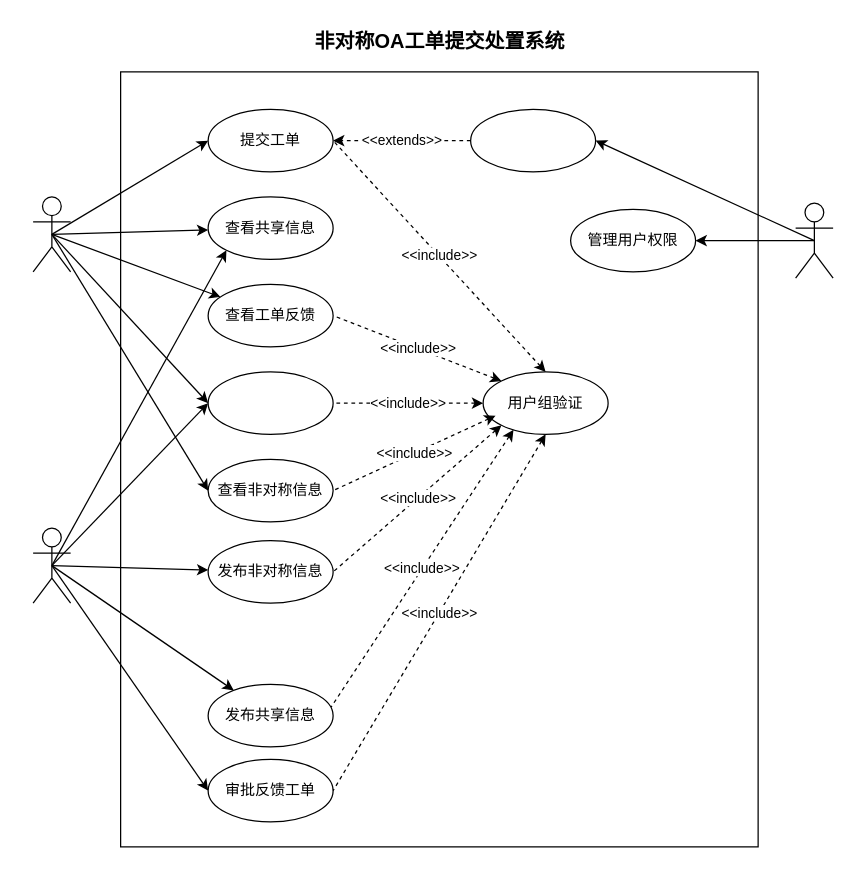
Some shapes in this 858 by 869 pixel diagram are drawn without their labels. The shapes that lost their labels are listed below. From the top down, each one's centre as x and y in pixels, then its label:
[532,140]: 设置工单模板
[51,234]: 低级用户
[813,240]: 管理员
[270,402]: 注册或登录
[51,565]: 高级用户
